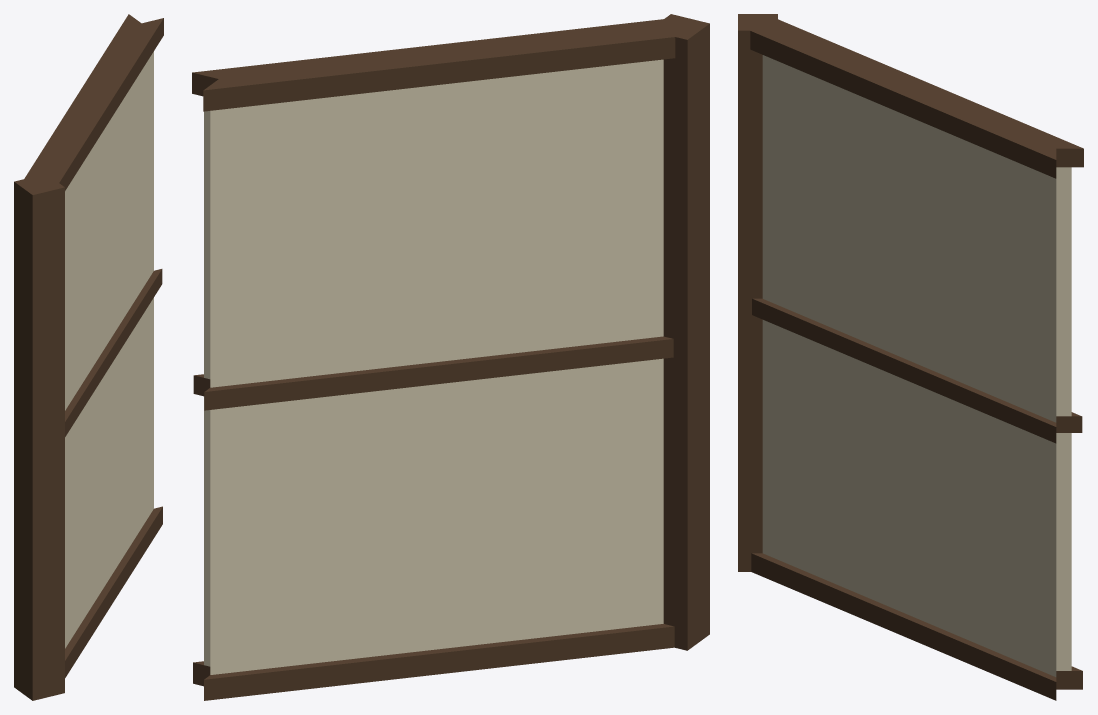
The model's file is diagonal_bay.glb.
3 views of the same model, side by side, from view 1: azimuth 30°, elevation 25°; view 2: azimuth 150°, elevation 25°; view 3: azimuth 270°, elevation 25° (orthographic). The views are drawn at different scales.
Parts seen in each view (by area): view 1: Diagonal bay; view 2: Diagonal bay; view 3: Diagonal bay.
Boxes of the visible parts, bbox=[...] form: Diagonal bay: bbox=[14, 14, 163, 700]; Diagonal bay: bbox=[192, 14, 709, 700]; Diagonal bay: bbox=[738, 14, 1083, 700].
Size of the model in its own units: 1.09 by 1.88 by 1.09.
